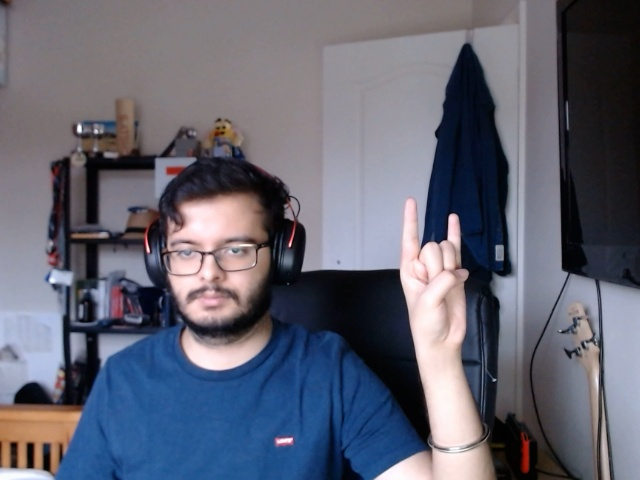Rock on: (365, 194, 490, 370)
